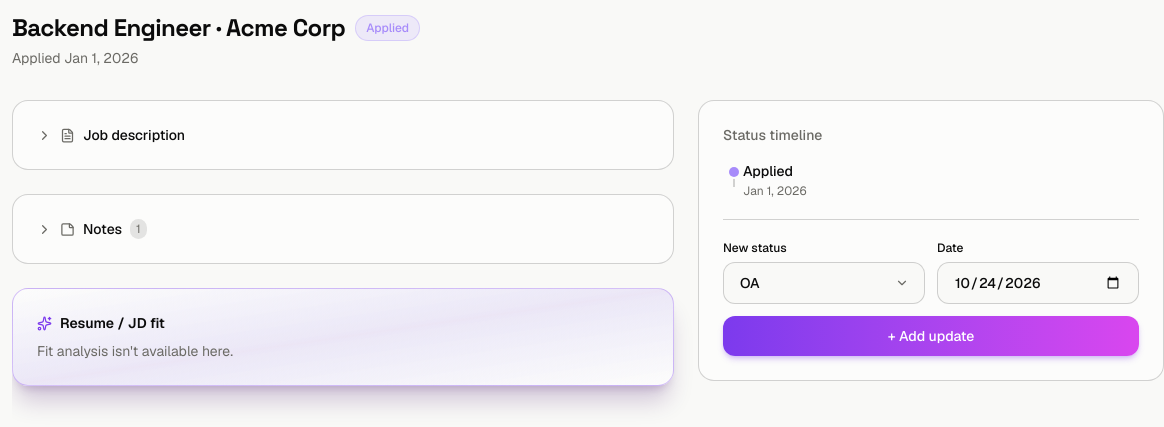
Test: ApplicationDetailView › submitting an OFFER status shows the offer celebration
Select "Offer" in the dropdown labelled "New status": (824, 283) left=723, top=262, right=925, bottom=304
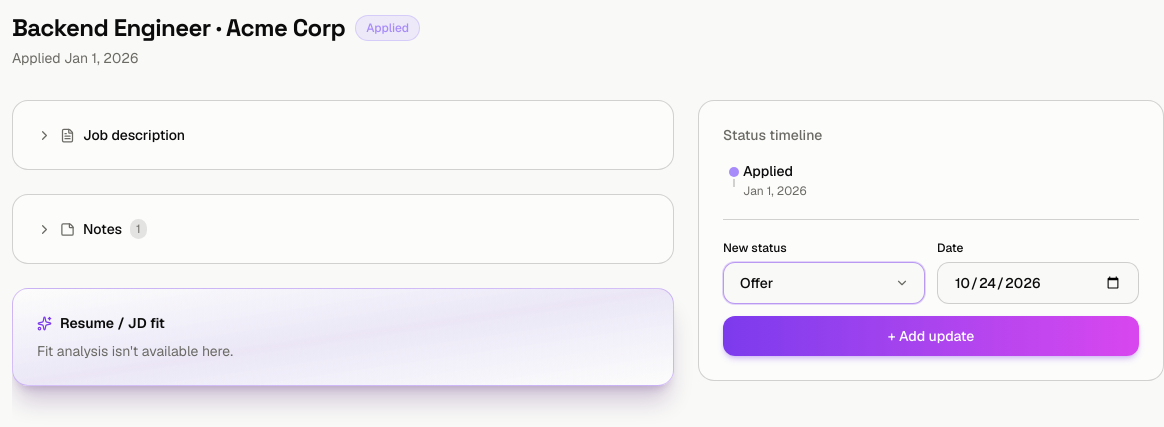
Click the button "+ Add update": click(931, 336) left=723, top=316, right=1139, bottom=356
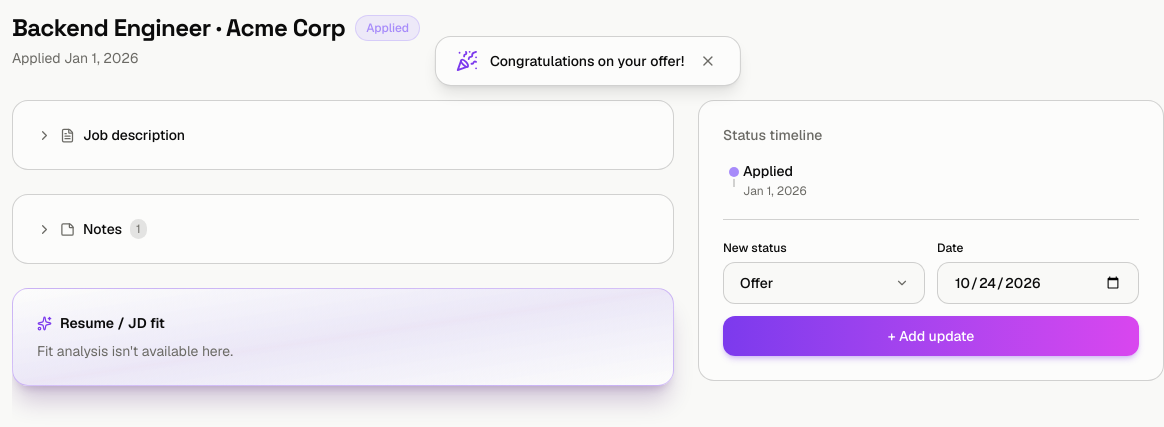
Expected: the text "Congratulations on your offer!" is shown, left=490, top=51, right=684, bottom=71
